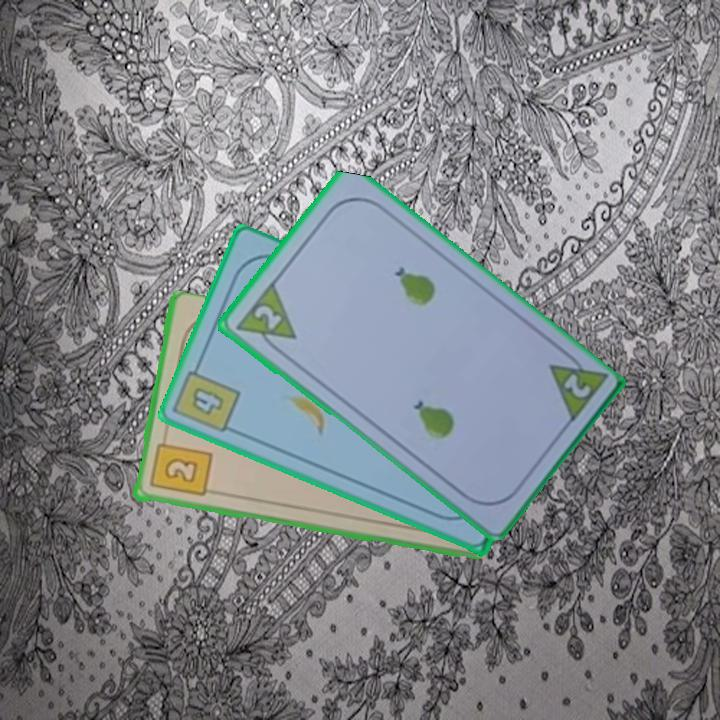2b: (146, 431, 213, 500)
2p: (231, 278, 299, 358), (559, 369, 593, 401)
4b: (171, 358, 244, 437)
